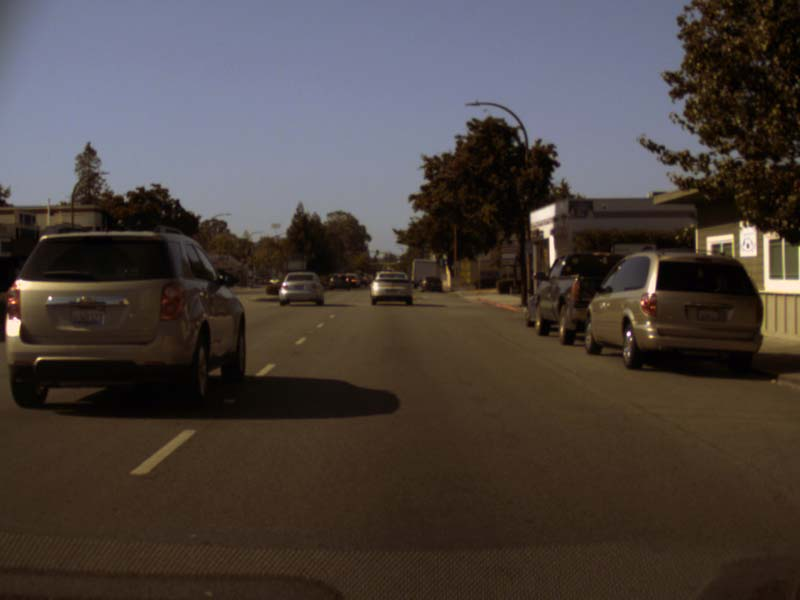Red: (355, 248, 359, 254)
